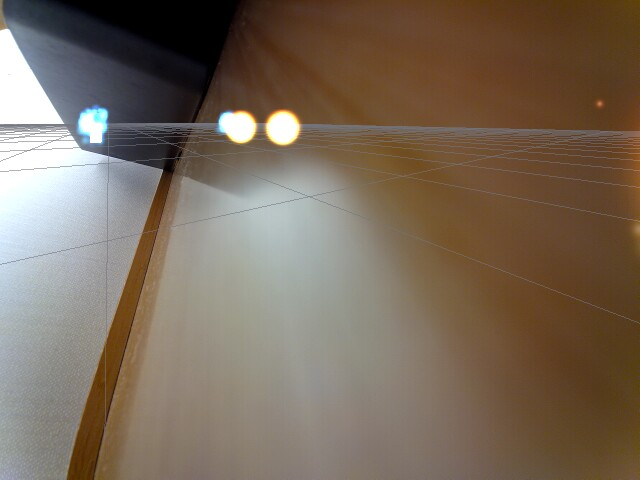firebig: (262, 108, 304, 149)
